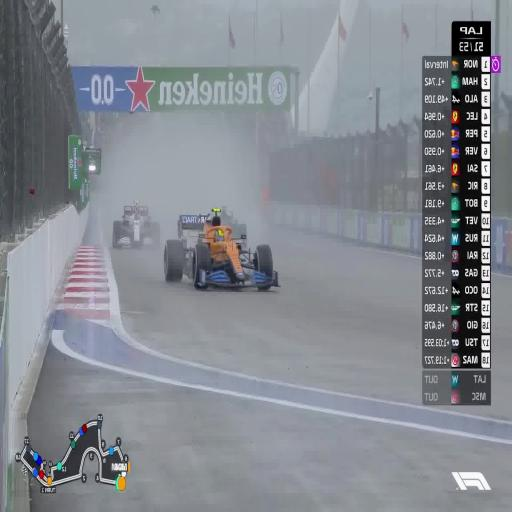f1_car: (164, 209, 279, 289), (113, 201, 160, 248)
